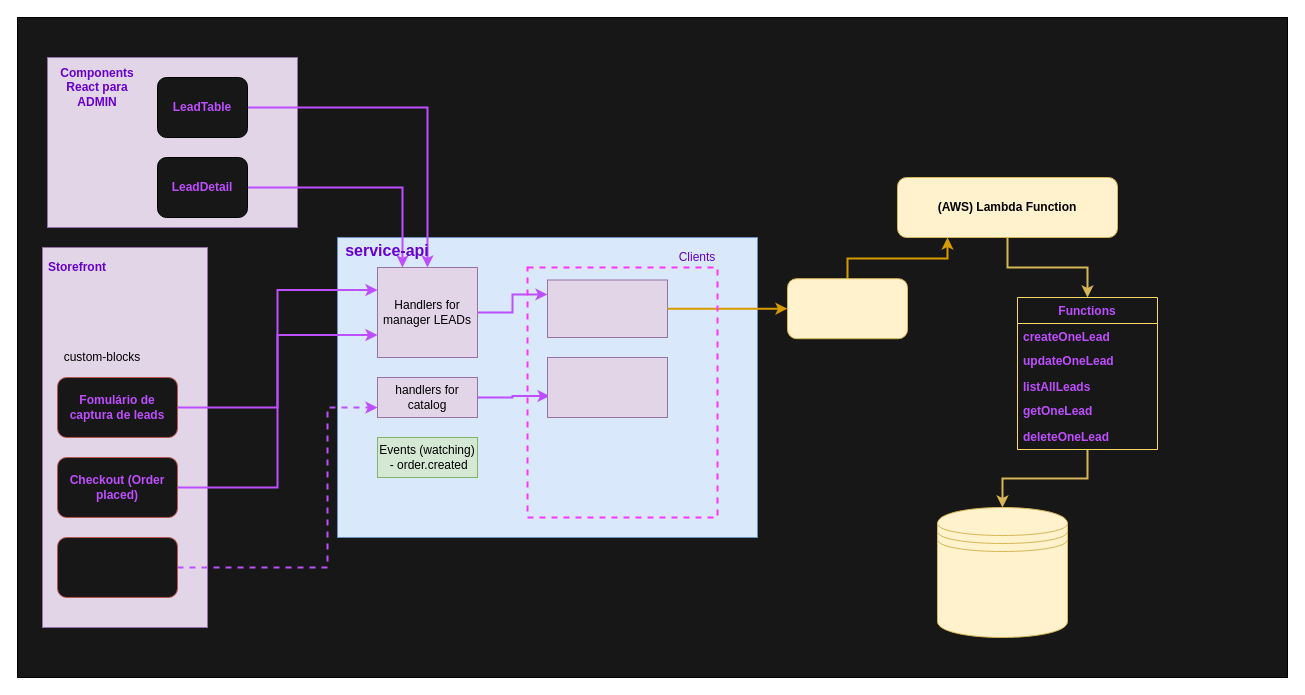
This 1305x695 diagram has some shape labels left out. Each missing label, with the centre of its shape:
"AWS (API GATEWAY) for leads" goes at [847,308].
"AWS (LEADS)" goes at [607,308].
"Dynamodb" goes at [1002,572].
"ListProducts" goes at [117,567].
"VTEX @vtex/clients" goes at [607,387].
